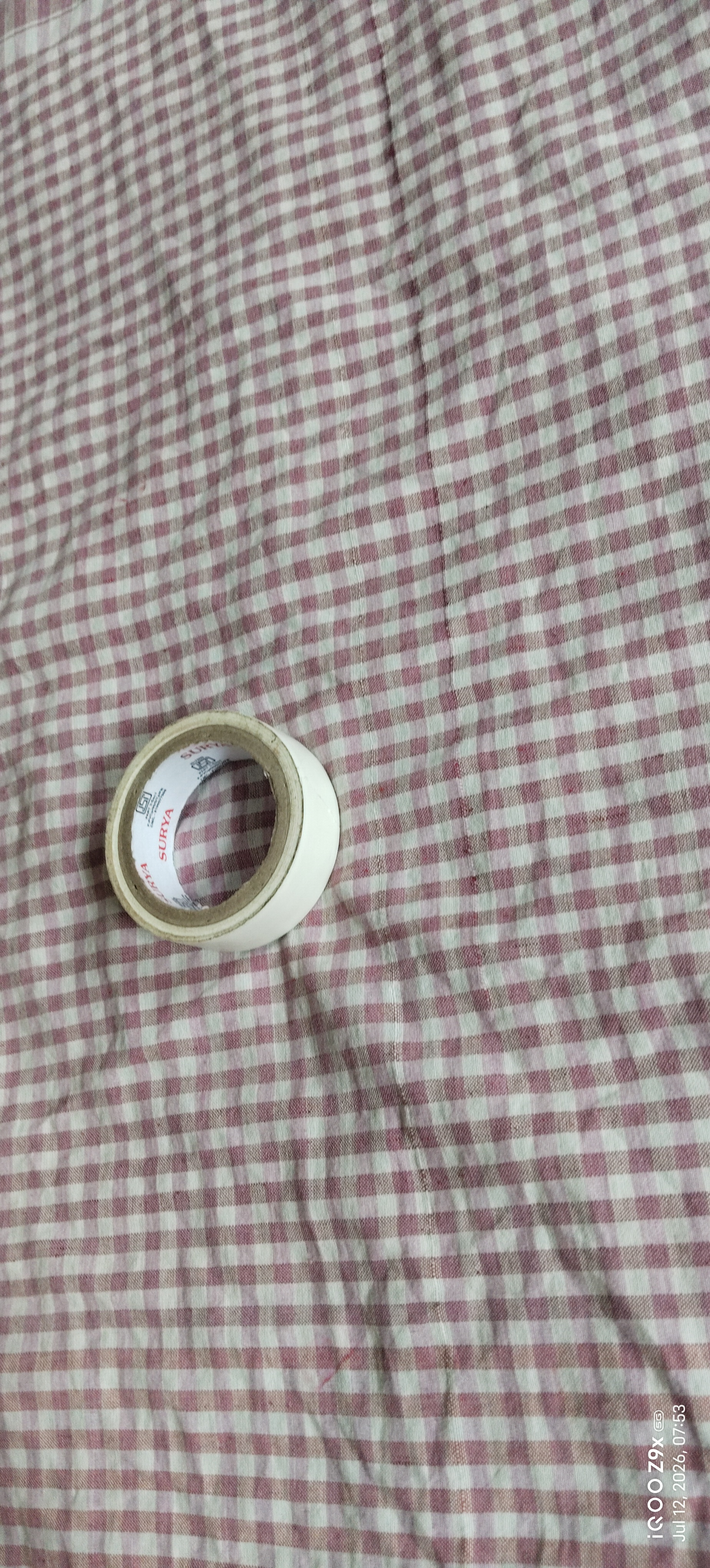tape_roll: (87, 704, 345, 971)
